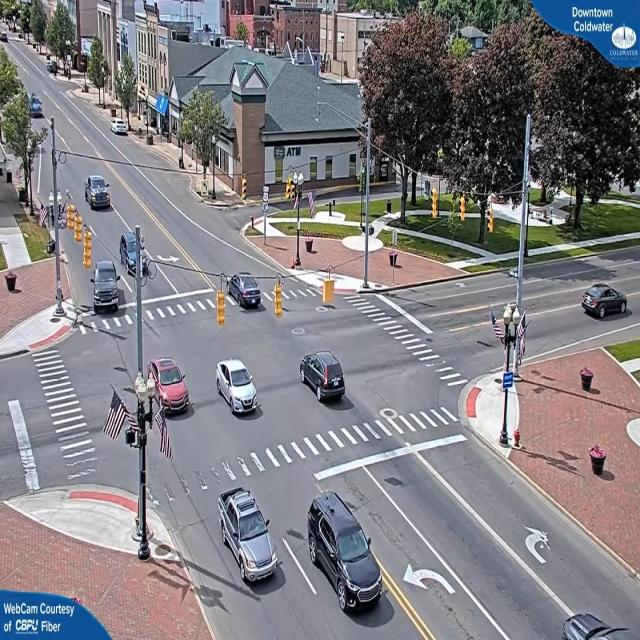car: (306, 495, 384, 617), (220, 491, 284, 588), (214, 359, 260, 418), (298, 351, 346, 405), (150, 358, 193, 418), (580, 286, 630, 320), (228, 277, 261, 309), (86, 175, 112, 211), (111, 119, 129, 136)
